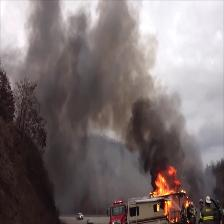fire: (151, 173, 178, 196)
smoke: (39, 34, 148, 122), (131, 124, 182, 161)
